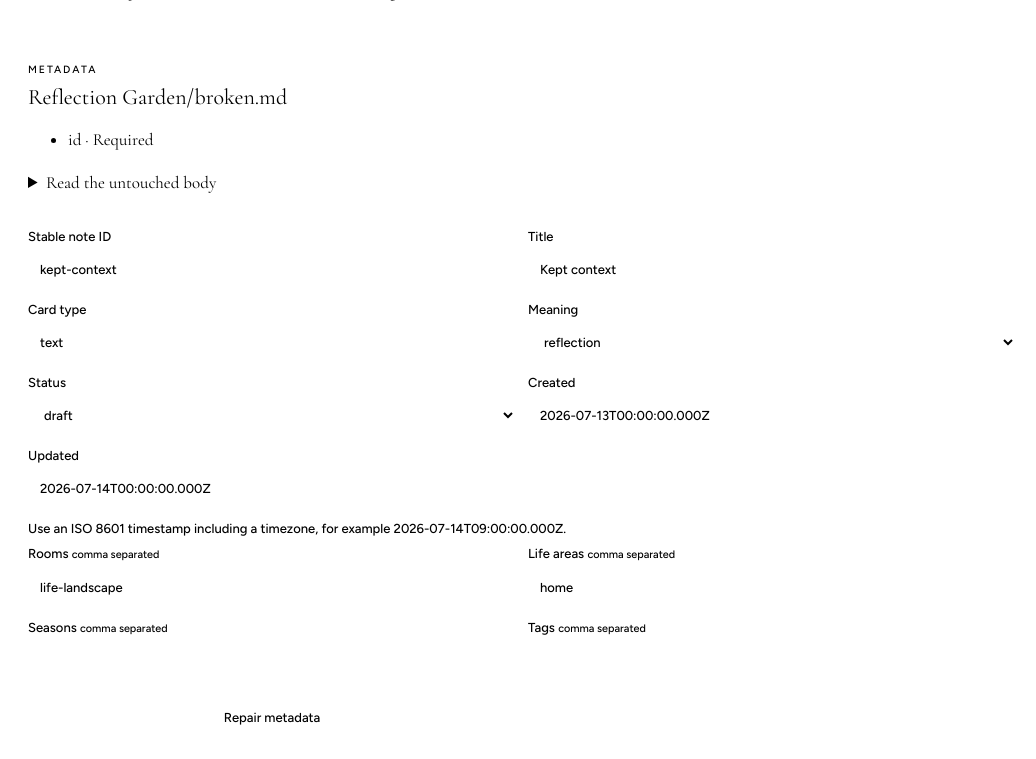
RepairPanel › preserves valid source and Landscape context while repairing another field
(page scrolled)
Click the button "Repair metadata": [272, 717] box [28,695,516,739]
(page scrolled)
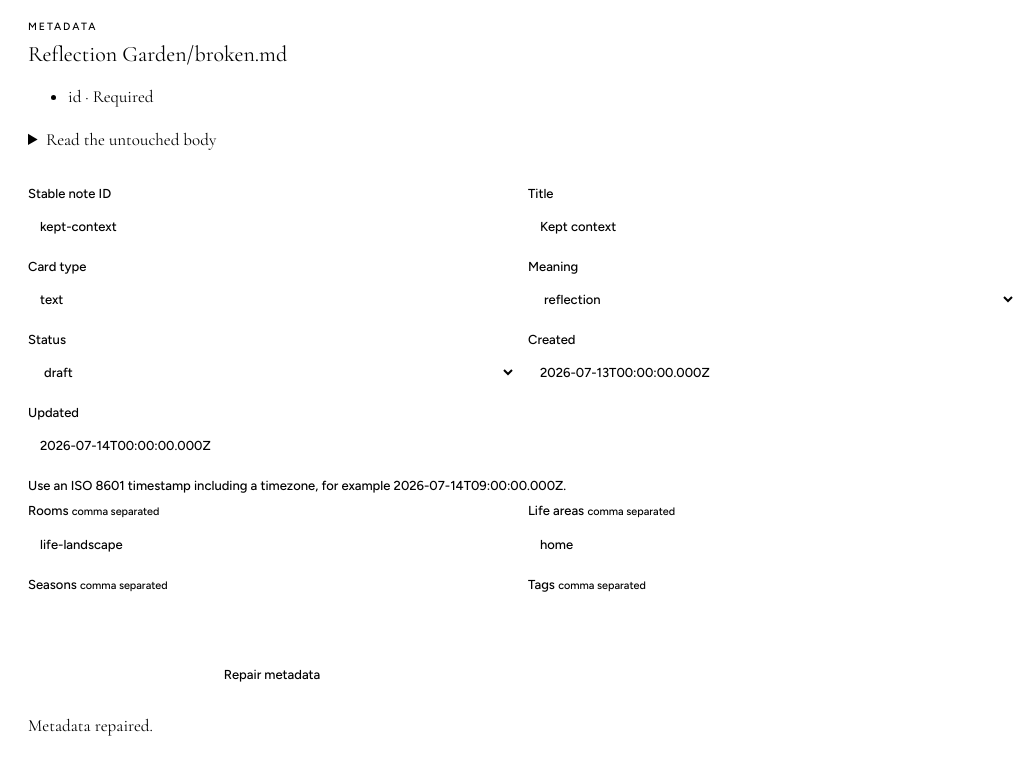
Expected: the message "Metadata repaired." is shown, [28,715,153,736]
